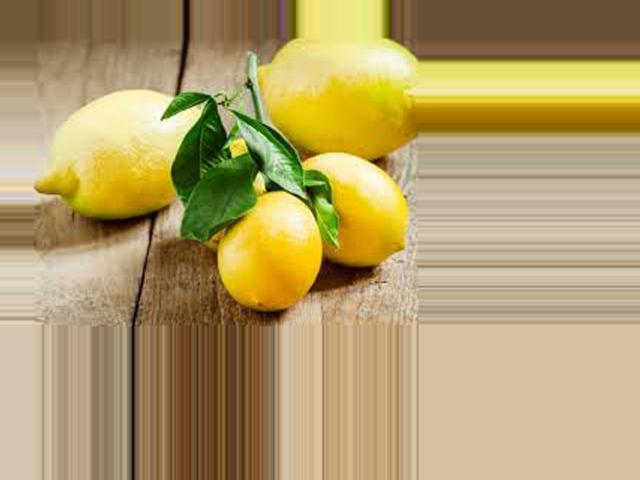lemon: (36, 85, 233, 235)
